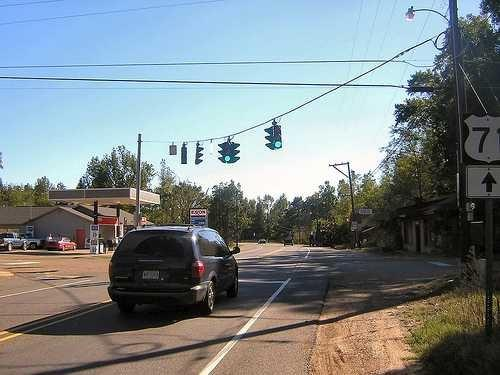green: (221, 141, 234, 166), (273, 122, 284, 150)
